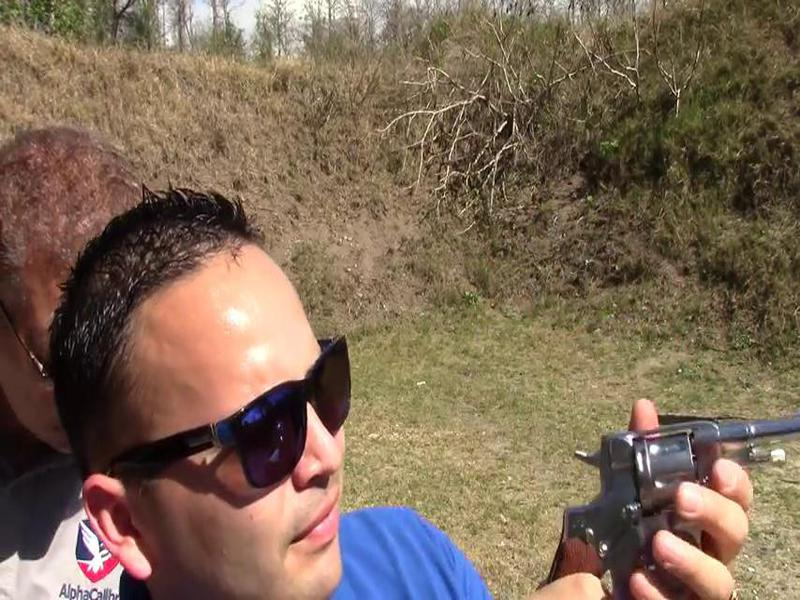Revolver: (558, 404, 800, 583)
